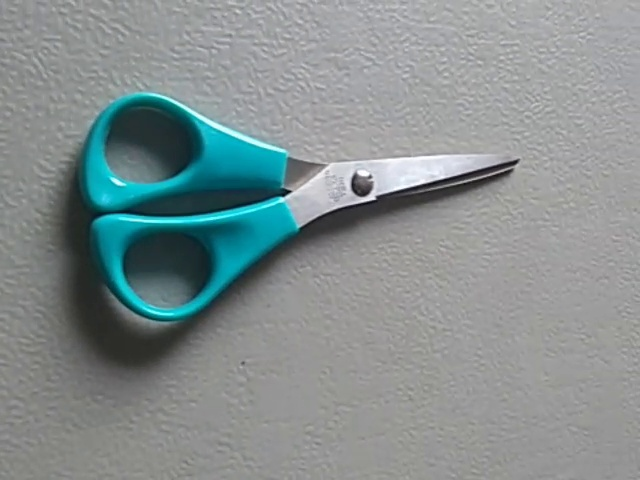Sizer: (59, 85, 528, 336)
